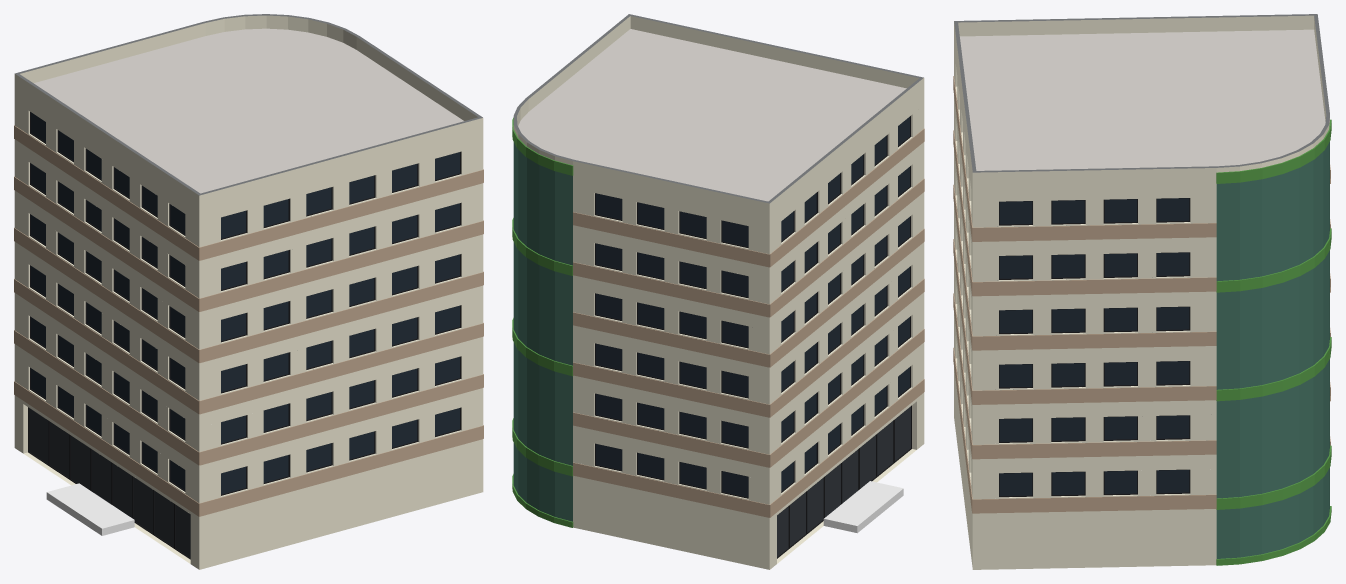
File: esmod528.glb
3 views of the same model, side by side, from view 1: azimuth 30°, elevation 25°; view 2: azimuth 150°, elevation 25°; view 3: azimuth 270°, elevation 25° (orthographic). The views are drawn at different scales.
Visible parts, largest first — view 1: esmod528; view 2: esmod528; view 3: esmod528.
Part boxes in pixels (bbox=[...]): esmod528: bbox=[14, 14, 483, 569]; esmod528: bbox=[512, 14, 924, 569]; esmod528: bbox=[953, 14, 1331, 569].
Bounding box in the file's own units: 24.02 × 25.6 × 22.08.
